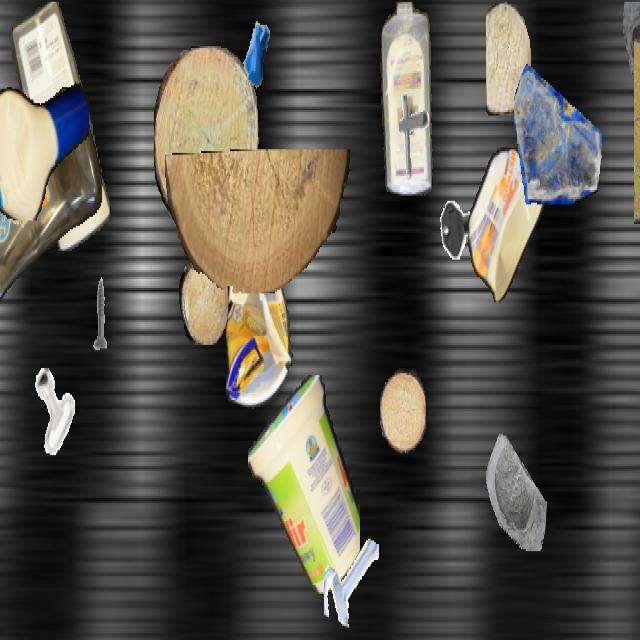glass: (514, 52, 602, 208), (473, 418, 547, 549), (619, 1, 640, 116)
metal: (229, 2, 283, 98), (324, 530, 378, 626), (384, 87, 438, 183), (29, 368, 77, 453), (438, 190, 480, 265), (79, 276, 121, 350), (0, 183, 24, 251), (638, 548, 640, 626)
plastic: (0, 83, 102, 364), (8, 2, 114, 250), (248, 375, 360, 596), (0, 64, 88, 220), (468, 147, 546, 300), (226, 235, 294, 409), (378, 2, 436, 194)
wood: (165, 150, 351, 292), (154, 46, 258, 231), (486, 1, 530, 116), (179, 258, 227, 343), (380, 368, 426, 453), (634, 39, 640, 224)
